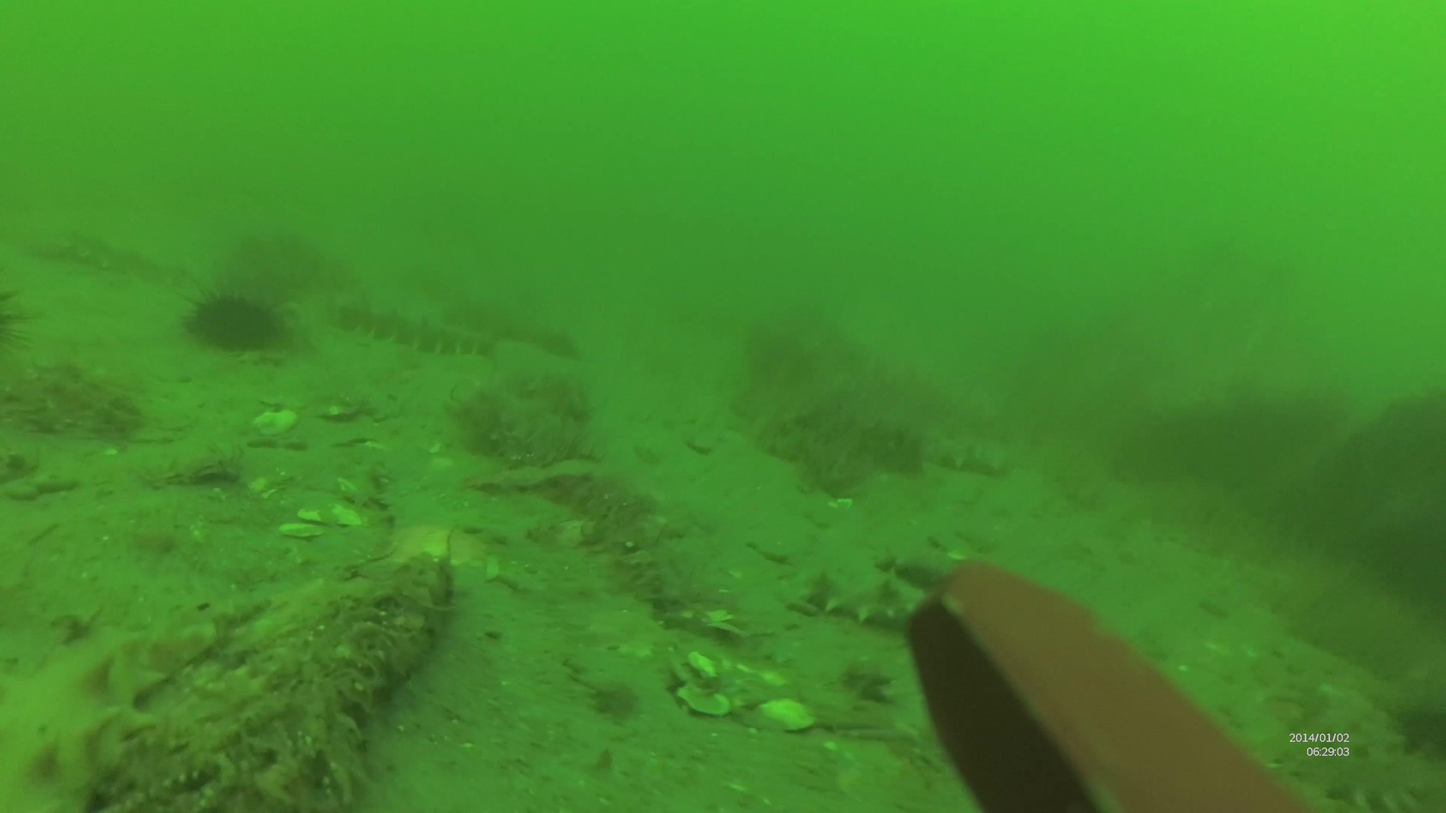echinus: (325, 288, 493, 368), (798, 566, 930, 642), (42, 226, 192, 289), (451, 301, 577, 359), (890, 548, 970, 593)
holothurian: (383, 518, 497, 585)
starfish: (183, 295, 285, 356)
